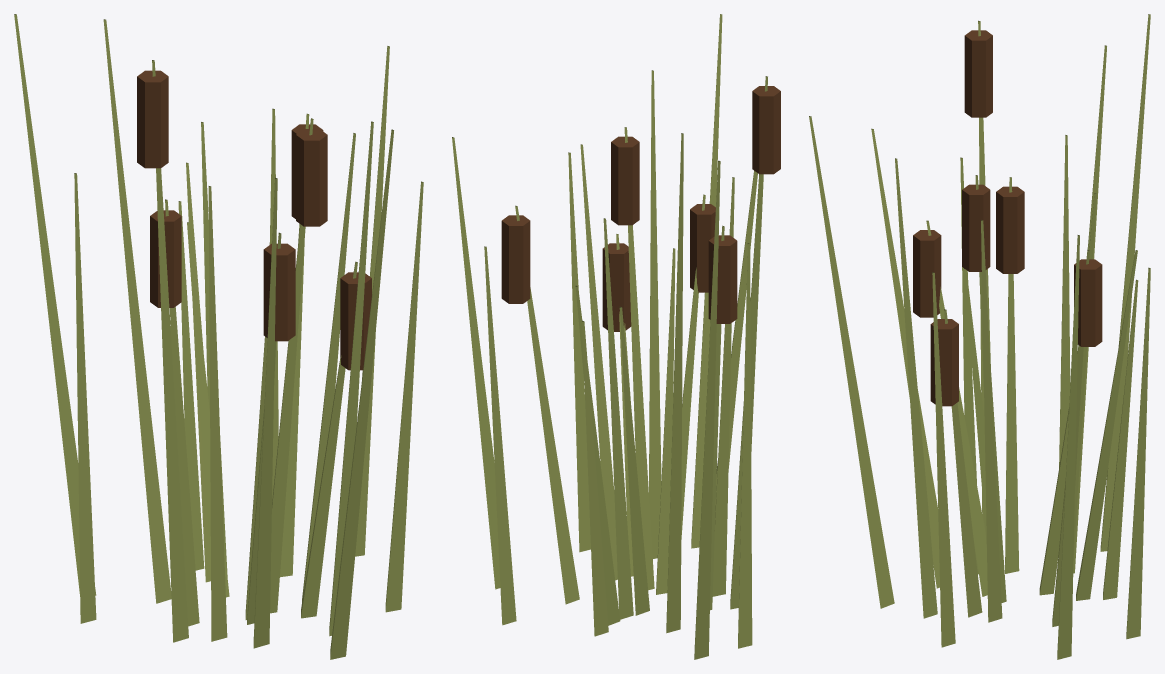
File: UM_Schilf.fbx
The picture shows the model from 3 angles, left to right: view 1: azimuth 30°, elevation 25°; view 2: azimuth 150°, elevation 25°; view 3: azimuth 270°, elevation 25°; orthographic projection. The views are drawn at different scales.
Visible parts, largest first — view 1: UM_Schilf; view 2: UM_Schilf; view 3: UM_Schilf.
Part boxes in pixels (<box>): UM_Schilf: <box>14,14,423,659</box>; UM_Schilf: <box>452,14,780,659</box>; UM_Schilf: <box>809,14,1150,659</box>.
Size of the model in its own units: 1.1 by 1.85 by 1.08.
